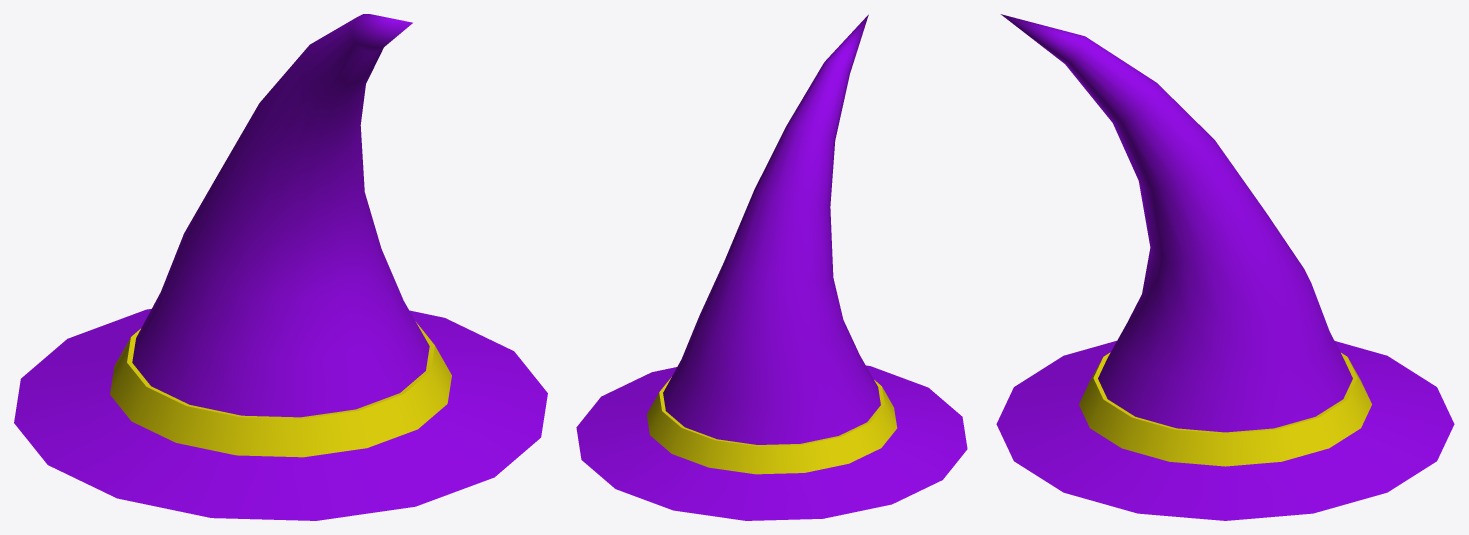
Rendered from HAT_Wizard.fbx.
The picture shows the model from 3 angles, left to right: view 1: azimuth 30°, elevation 25°; view 2: azimuth 150°, elevation 25°; view 3: azimuth 270°, elevation 25°; orthographic projection. The views are drawn at different scales.
Parts seen in each view (by area): view 1: Wizard_hat; view 2: Wizard_hat; view 3: Wizard_hat.
Boxes of the visible parts, x1,y1,x2,y2 form: Wizard_hat: (14,14,547,520); Wizard_hat: (576,14,967,520); Wizard_hat: (996,14,1454,520).
Bounding box in the file's own units: 59.68 × 58.97 × 59.68.
